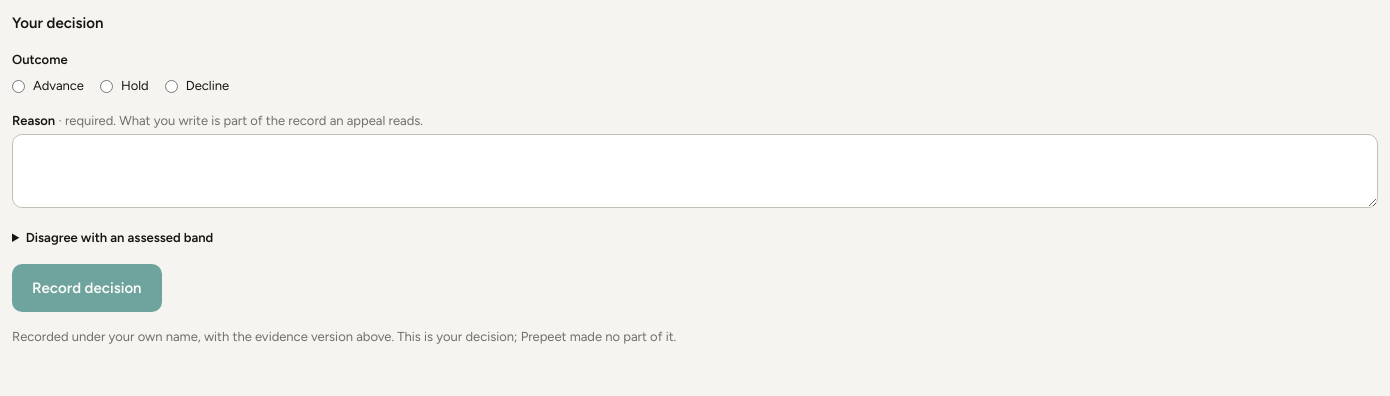
Scenario: the decision panel › surfaces the server's refusal in its own words
Click the radio button labelled "Advance" at (18, 86), box [12,80,25,93]
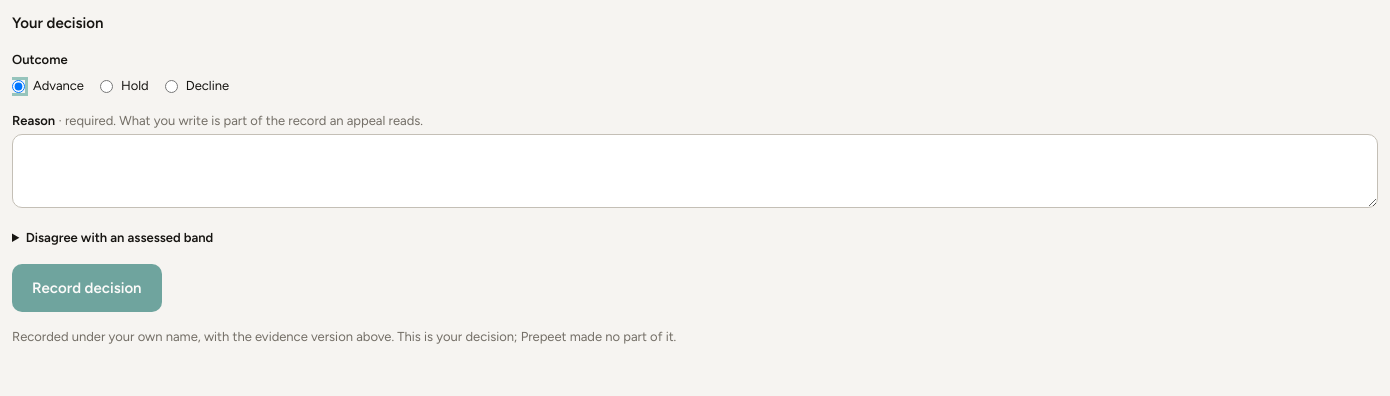
Type "r" into the text box labelled "Reason" at (695, 171), box [12,134,1378,208]
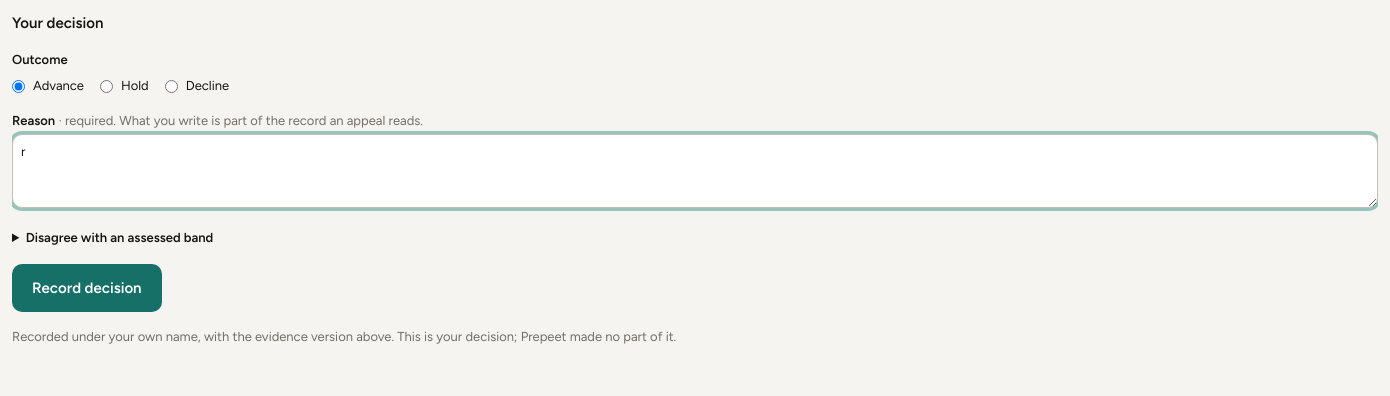
Click the button "Record decision" at (87, 288), box [12,264,162,312]
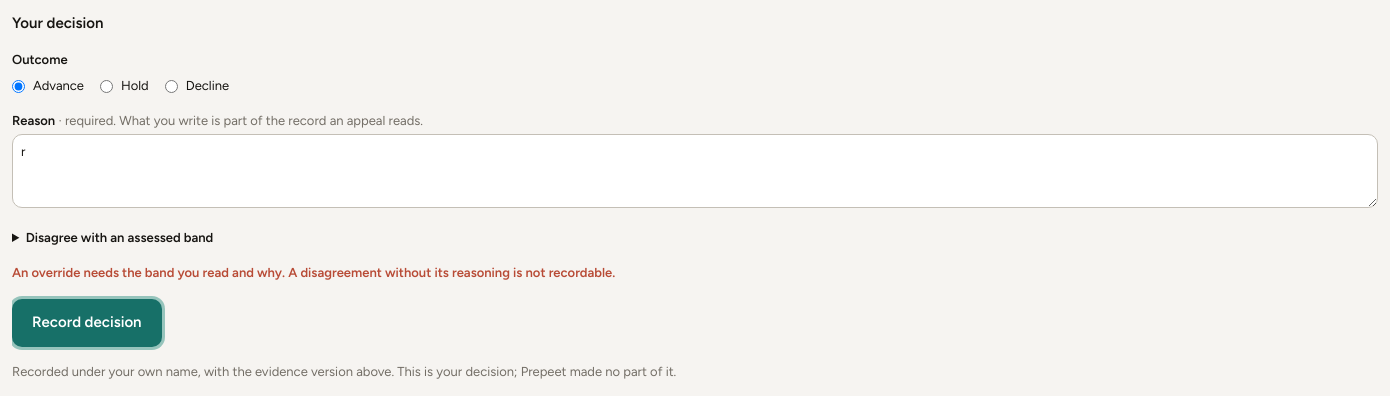
Now the message shows "without its reasoning is not recordable", box [12,265,615,280]
